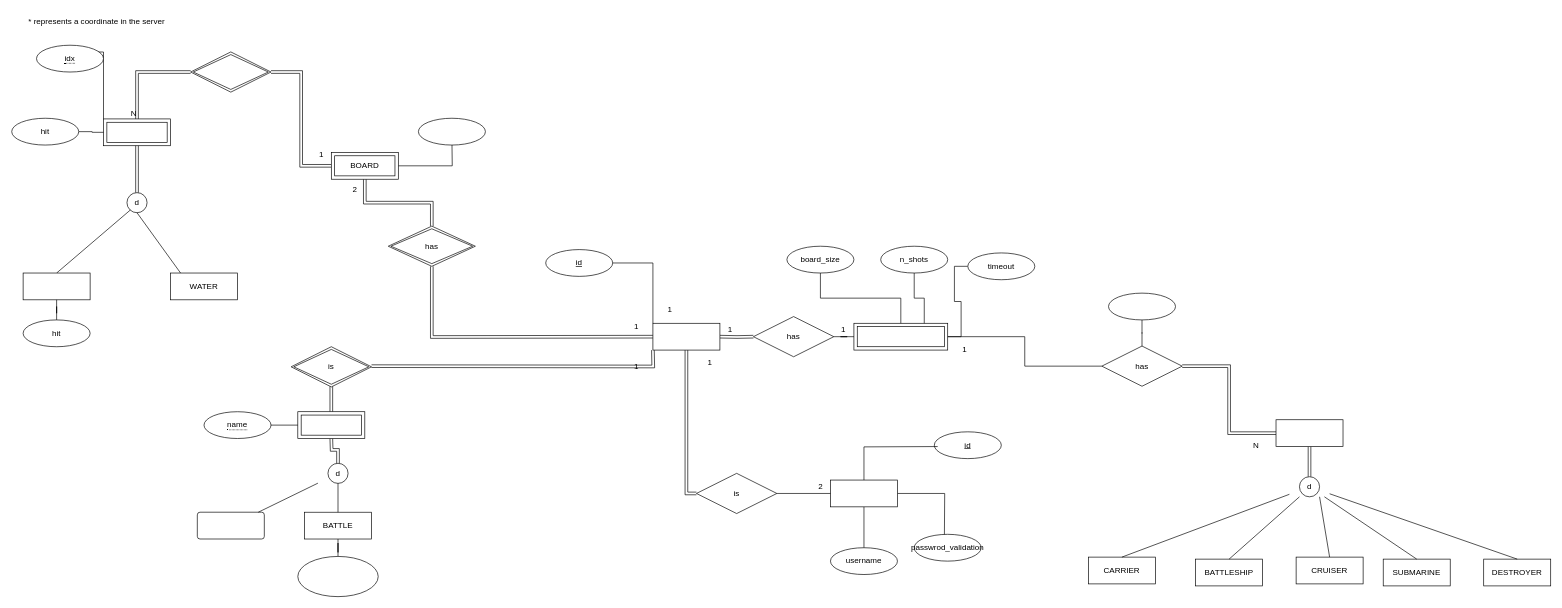
Some shapes in this 1562 by 608 pixel diagram are drawn without their labels. Here are the shapes that lost their labels. From the top down, the centre of each, then its label:
At pixel 230 71: "have".
At pixel 137 132: "PANEL".
At pixel 451 131: "player".
At pixel 56 286: "SHIP".
At pixel 1142 306: "length".
At pixel 686 336: "GAME".
At pixel 900 336: "CONFIGURATION".
At pixel 331 425: "STATE".
At pixel 1309 433: "SHIP_TYPE".
At pixel 863 493: "USER".
At pixel 230 525: "OTHER".
At pixel 337 576: "player_turn".
